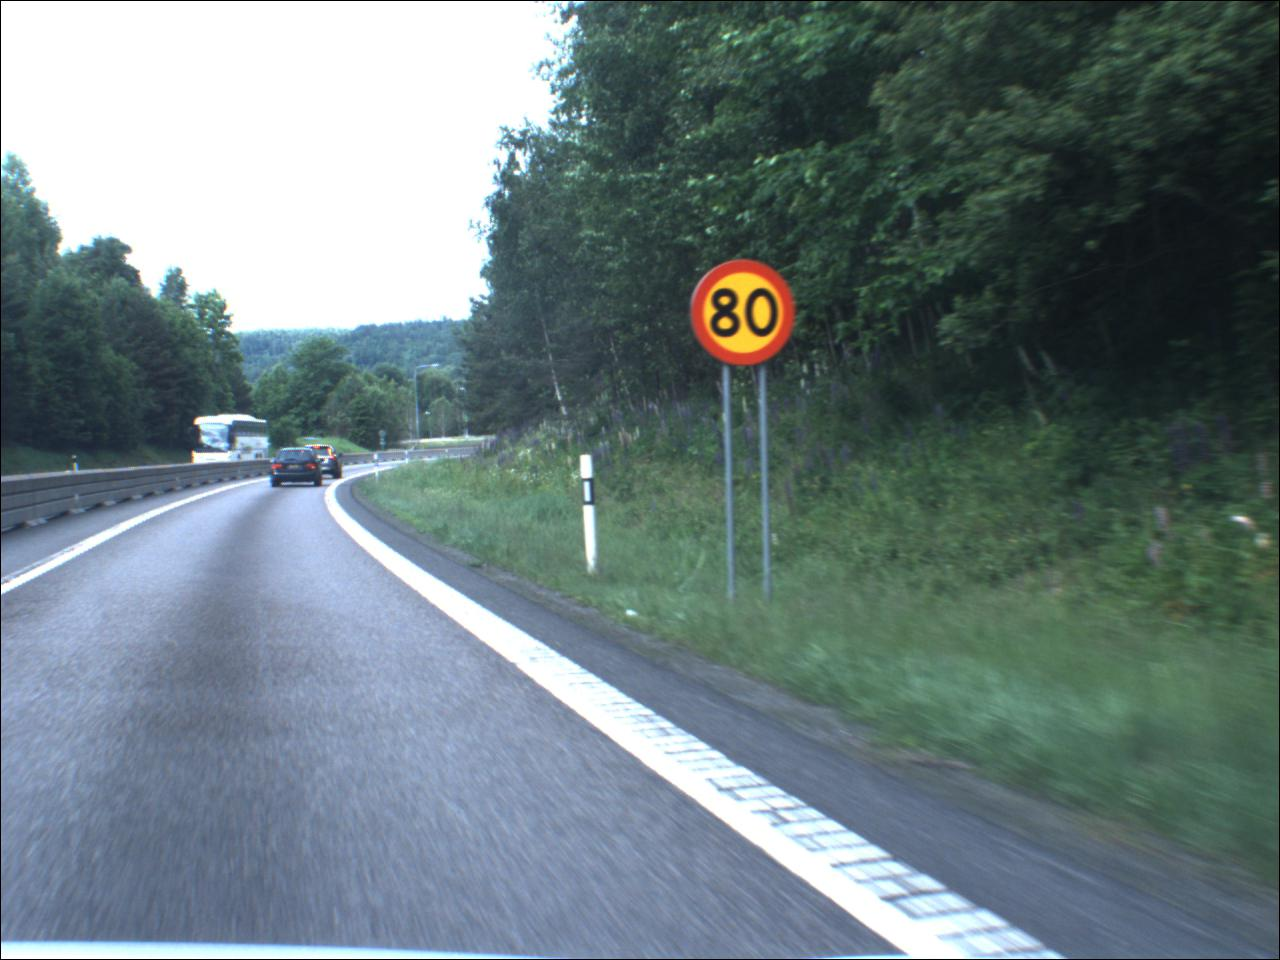80_SIGN: (690, 257, 797, 369)
